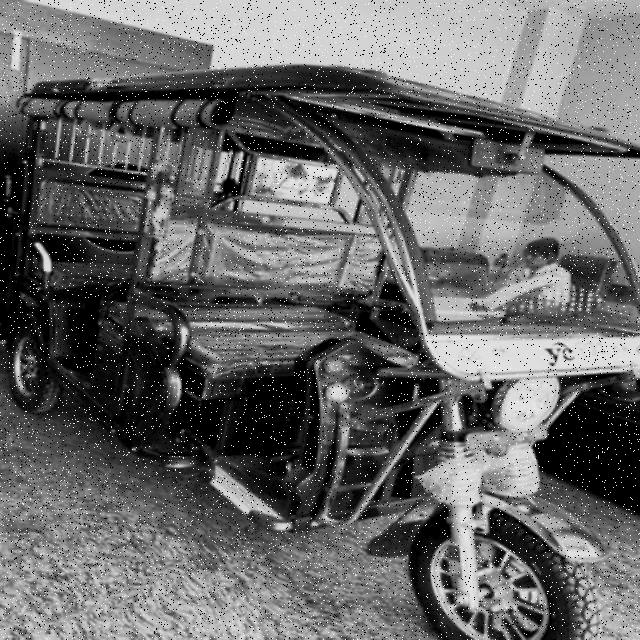Toto: (6, 50, 636, 640)
